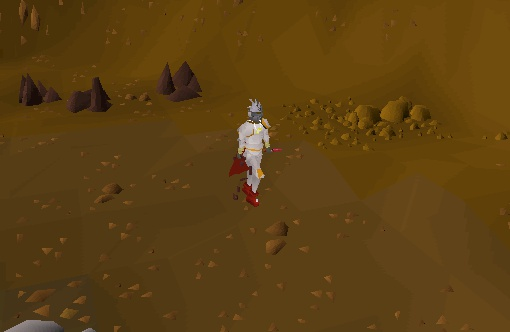iron: (151, 57, 213, 113), (61, 74, 117, 120)
